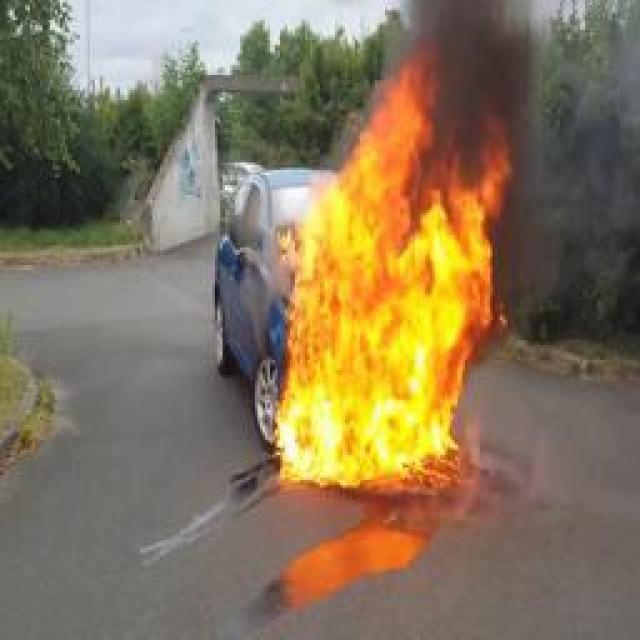Fire: (278, 47, 516, 485)
